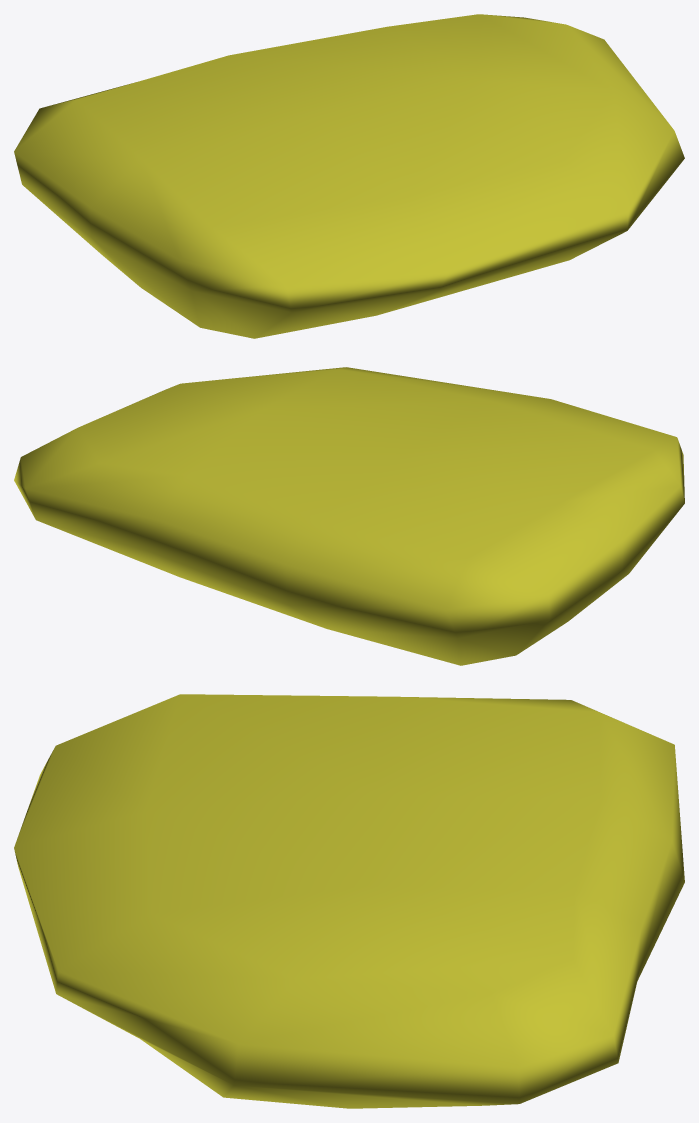
Rendered from Rock_03.fbx.
3 views of the same model, one above another, from view 1: azimuth 30°, elevation 25°; view 2: azimuth 150°, elevation 25°; view 3: azimuth 270°, elevation 25° (orthographic). The views are drawn at different scales.
Parts seen in each view (by area): view 1: Rock_03; view 2: Rock_03; view 3: Rock_03.
Part boxes in pixels (bbox=[...]): Rock_03: bbox=[14, 14, 684, 338]; Rock_03: bbox=[14, 367, 684, 665]; Rock_03: bbox=[14, 694, 684, 1108].
Bounding box in the file's own units: 291 × 69.25 × 231.
